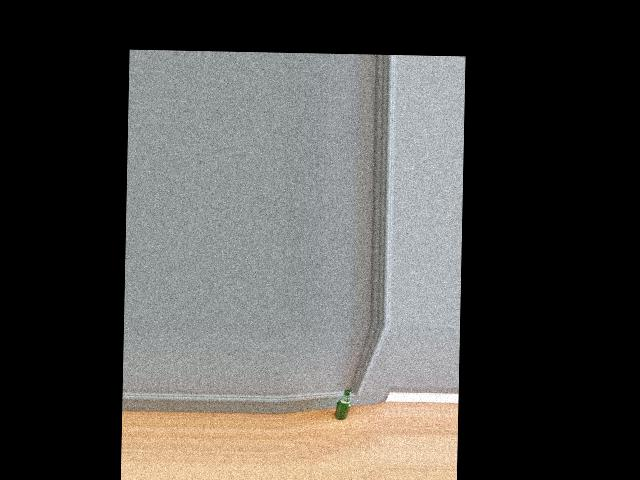beer: (335, 390, 351, 420)
